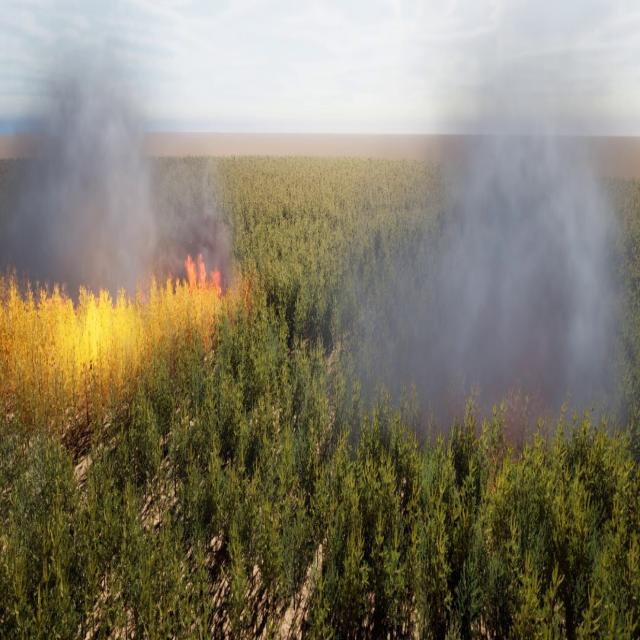fire: (9, 292, 144, 366), (182, 248, 225, 304)
smoke: (327, 55, 639, 444), (0, 44, 237, 289)
